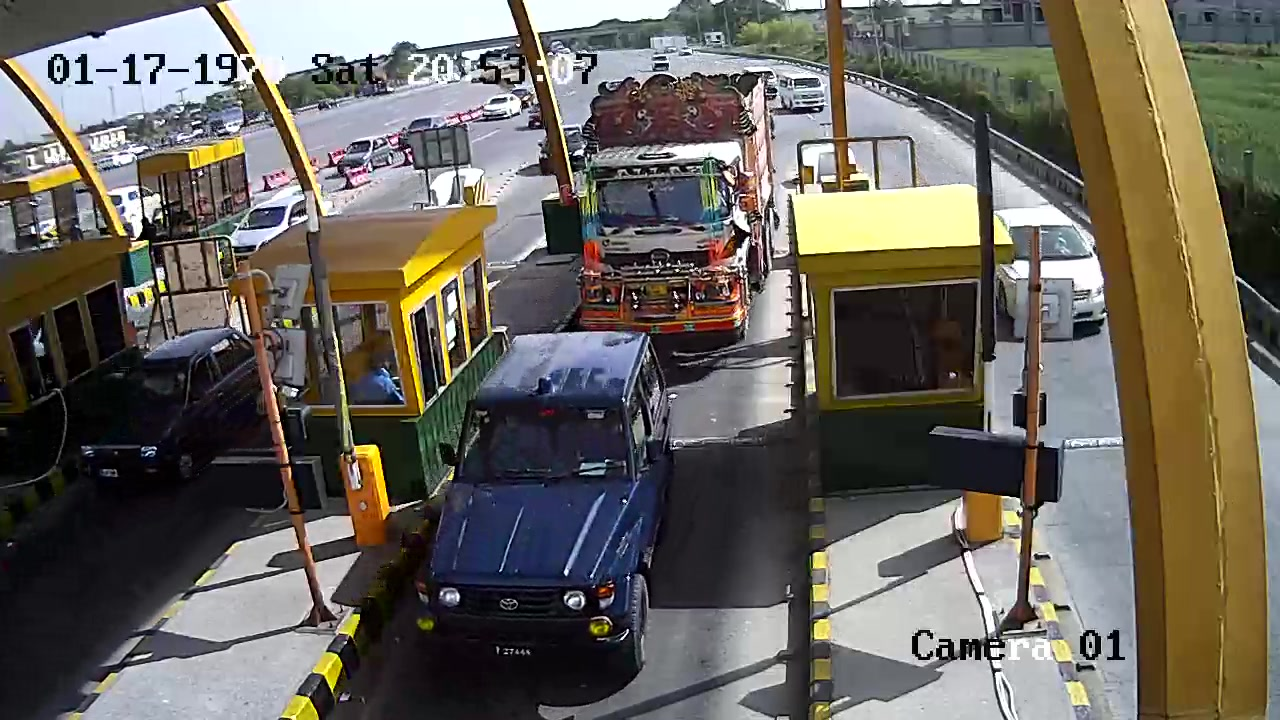F1: (397, 336, 669, 674)
F5: (569, 60, 788, 353)
